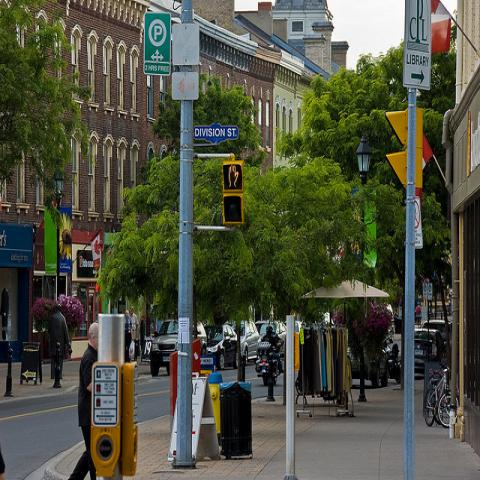car: (224, 318, 262, 366), (204, 326, 238, 370), (415, 329, 447, 372), (420, 319, 448, 347), (258, 320, 286, 336), (296, 322, 310, 332)
motorcycle: (252, 336, 285, 388)
truck: (150, 319, 207, 378)
